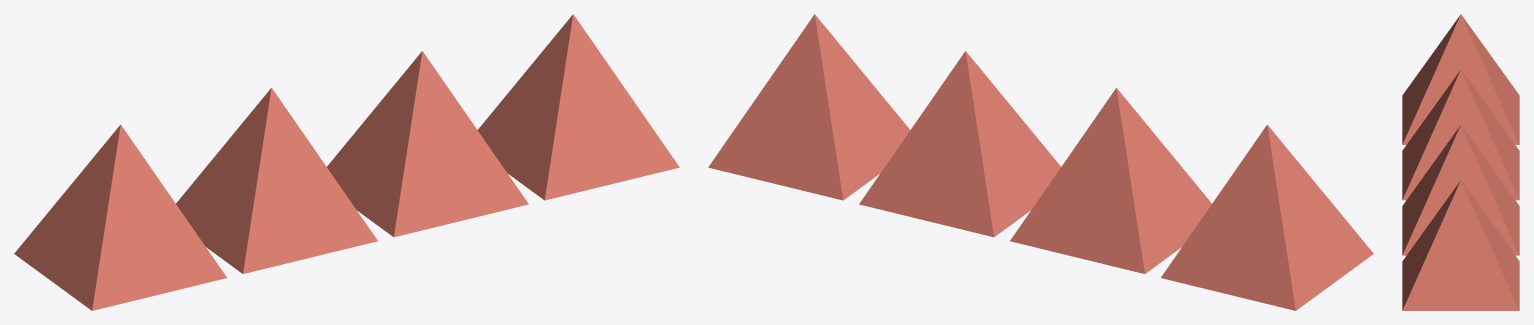
Rendered from last element 2.fbx.
3 views of the same model, side by side, from view 1: azimuth 30°, elevation 25°; view 2: azimuth 150°, elevation 25°; view 3: azimuth 270°, elevation 25° (orthographic). The views are drawn at different scales.
Visible parts, largest first — view 1: Cube.021, Cube.020, Cube.022, Cube.019; view 2: Cube.021, Cube.020, Cube.022, Cube.019; view 3: Cube.019, Cube.022, Cube.020, Cube.021.
Part boxes in pixels (x1=…): Cube.021: x1=14, y1=124, x2=226, y2=310; Cube.020: x1=327, y1=51, x2=528, y2=237; Cube.022: x1=176, y1=88, x2=377, y2=273; Cube.019: x1=477, y1=14, x2=679, y2=200; Cube.021: x1=1161, y1=124, x2=1373, y2=310; Cube.020: x1=859, y1=51, x2=1060, y2=237; Cube.022: x1=1010, y1=88, x2=1211, y2=273; Cube.019: x1=708, y1=14, x2=910, y2=200; Cube.019: x1=1402, y1=180, x2=1519, y2=310; Cube.022: x1=1402, y1=70, x2=1519, y2=200; Cube.020: x1=1402, y1=125, x2=1519, y2=255; Cube.021: x1=1402, y1=14, x2=1519, y2=144.
Bounding box in the file's own units: 96.34 × 22.16 × 22.16.
